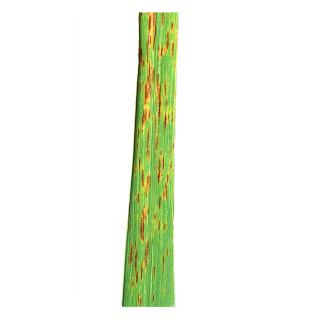Bercak-Cokelat-Sempit: (146, 12, 159, 68), (128, 241, 140, 291), (139, 205, 150, 243), (154, 70, 162, 121), (157, 30, 169, 62), (137, 153, 145, 187), (145, 124, 152, 162), (156, 150, 163, 187), (144, 238, 151, 273), (135, 127, 141, 150), (161, 251, 166, 277), (136, 292, 144, 308), (164, 110, 170, 131), (135, 189, 142, 206), (151, 264, 158, 279), (171, 39, 176, 59), (164, 77, 169, 97), (160, 12, 166, 28), (151, 291, 158, 304), (157, 193, 162, 210), (163, 183, 168, 200)
